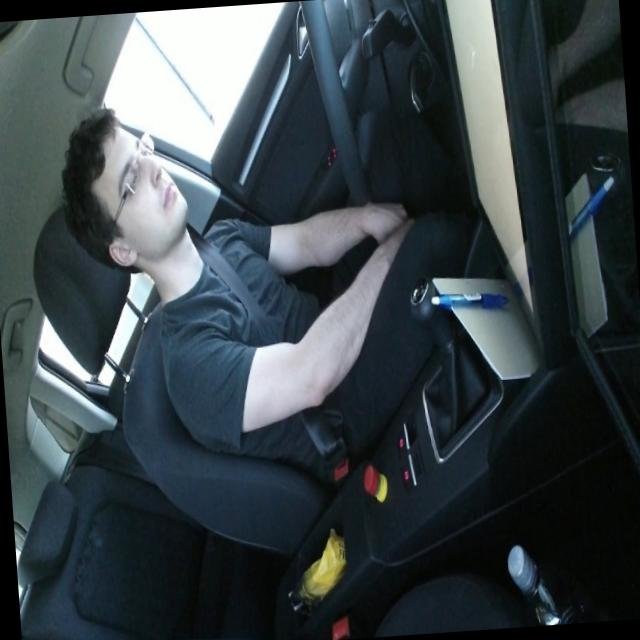pen: (429, 286, 508, 312)
